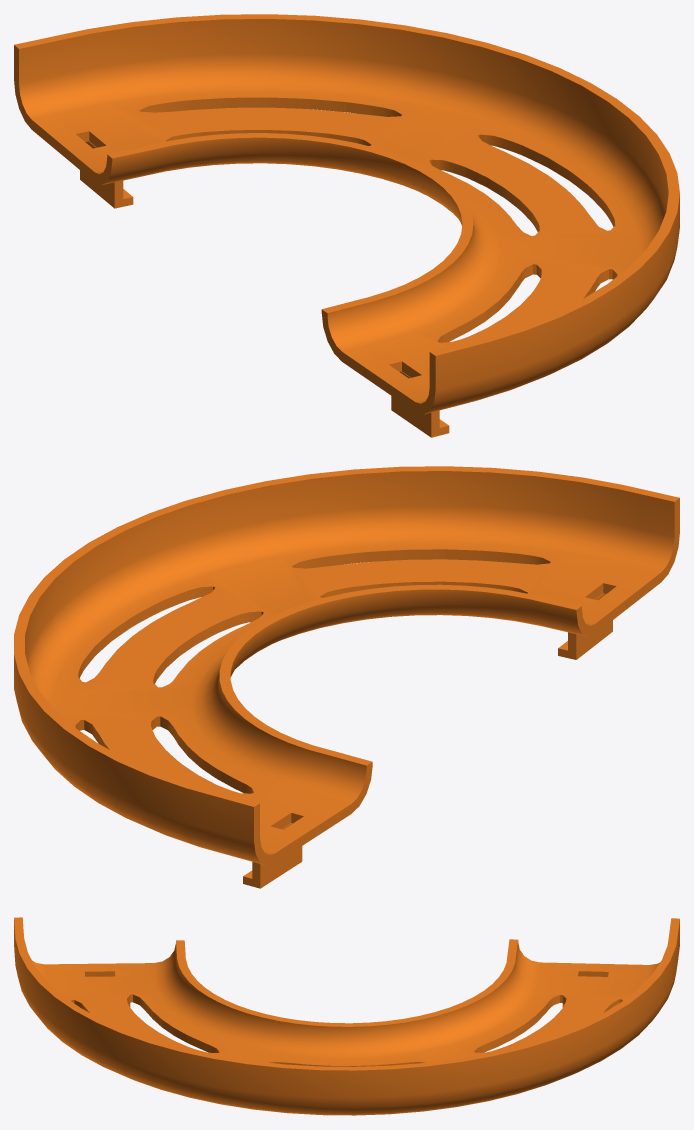
3 views of the same model, one above another, from view 1: azimuth 30°, elevation 25°; view 2: azimuth 150°, elevation 25°; view 3: azimuth 270°, elevation 25° (orthographic). The views are drawn at different scales.
Visible parts, largest first — view 1: T-02; view 2: T-02; view 3: T-02.
Boxes of the visible parts, x1,y1,x2,y2 form: T-02: (14, 14, 679, 437); T-02: (14, 466, 679, 888); T-02: (14, 917, 679, 1115).
Bounding box in the file's own units: 0.0674 × 0.0183 × 0.1217.
